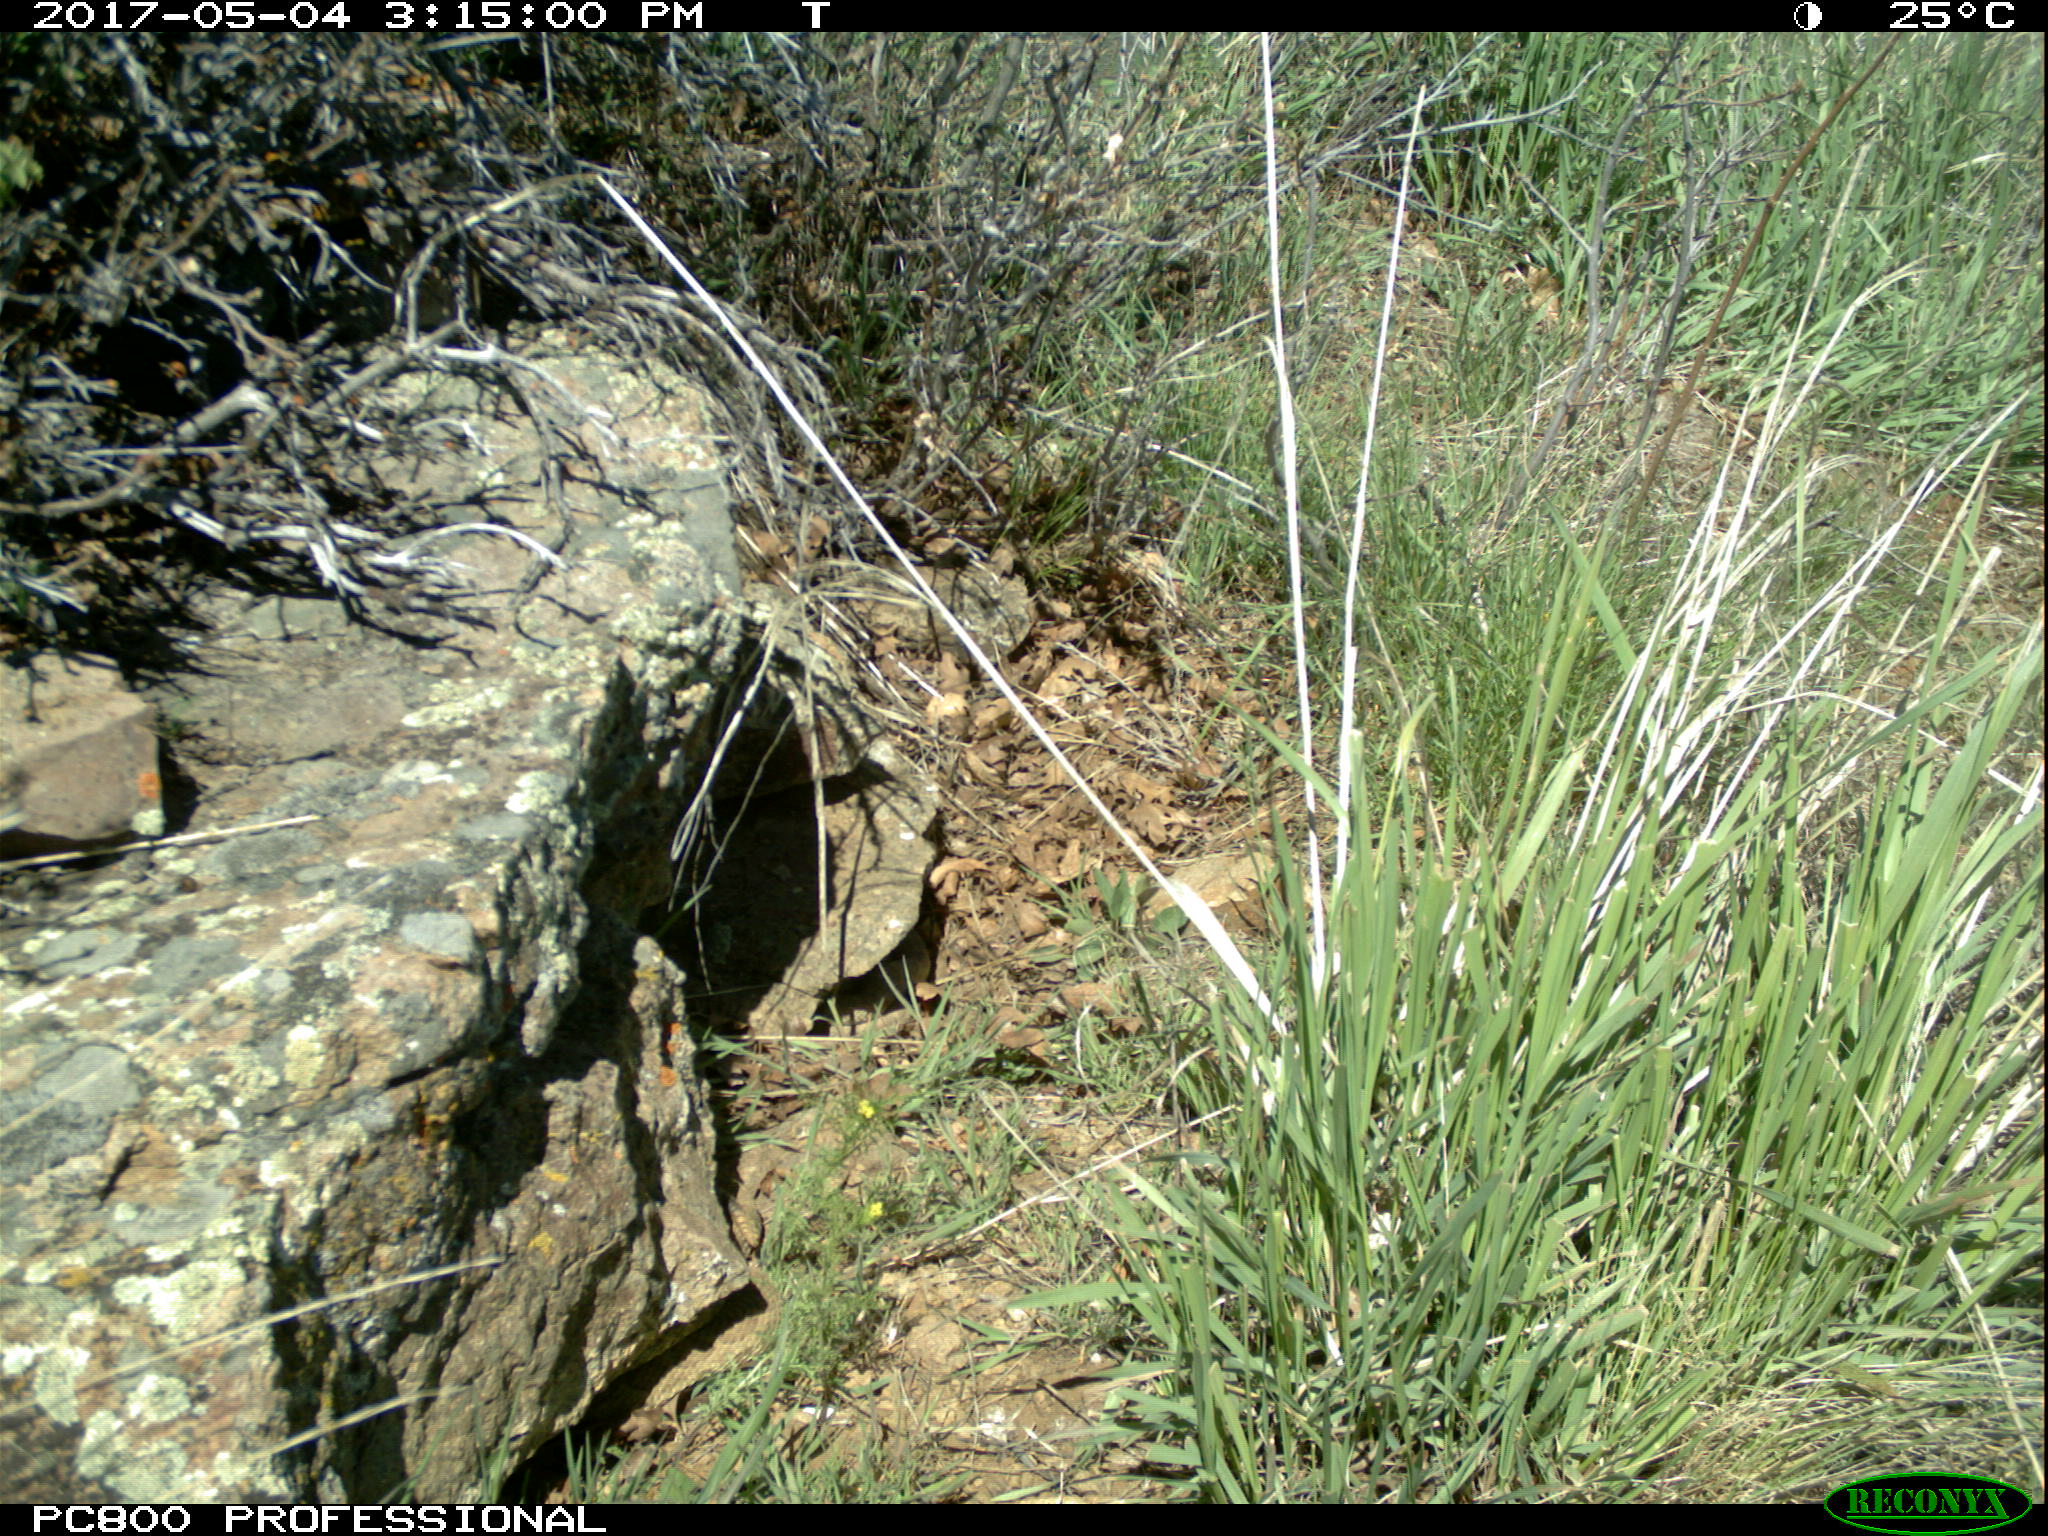snake: (619, 1317, 810, 1400), (722, 1147, 780, 1268)
